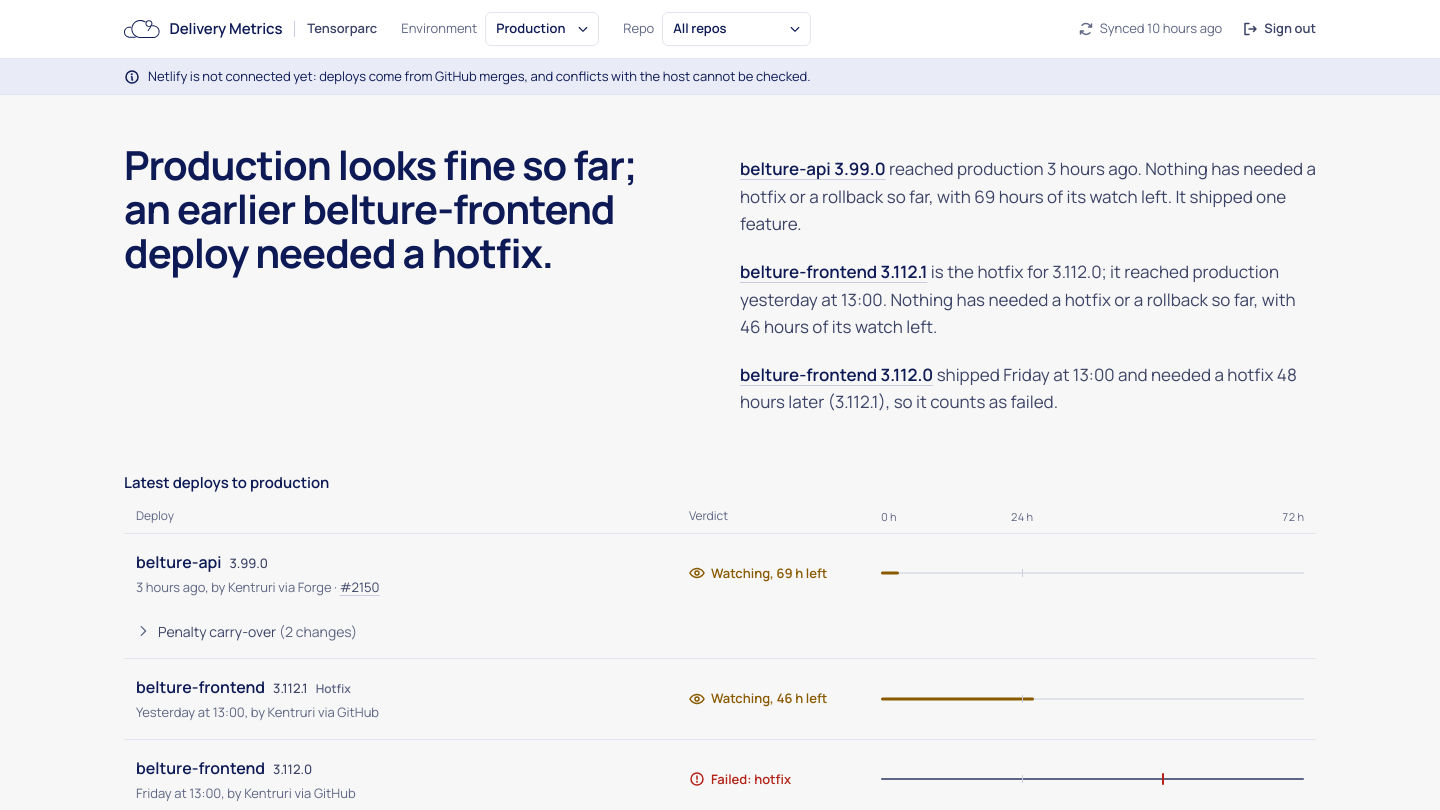
Scenario: OverviewPage › signs out
Click the button "Sign out".
click(1279, 29)  # box [1242,19,1316,38]
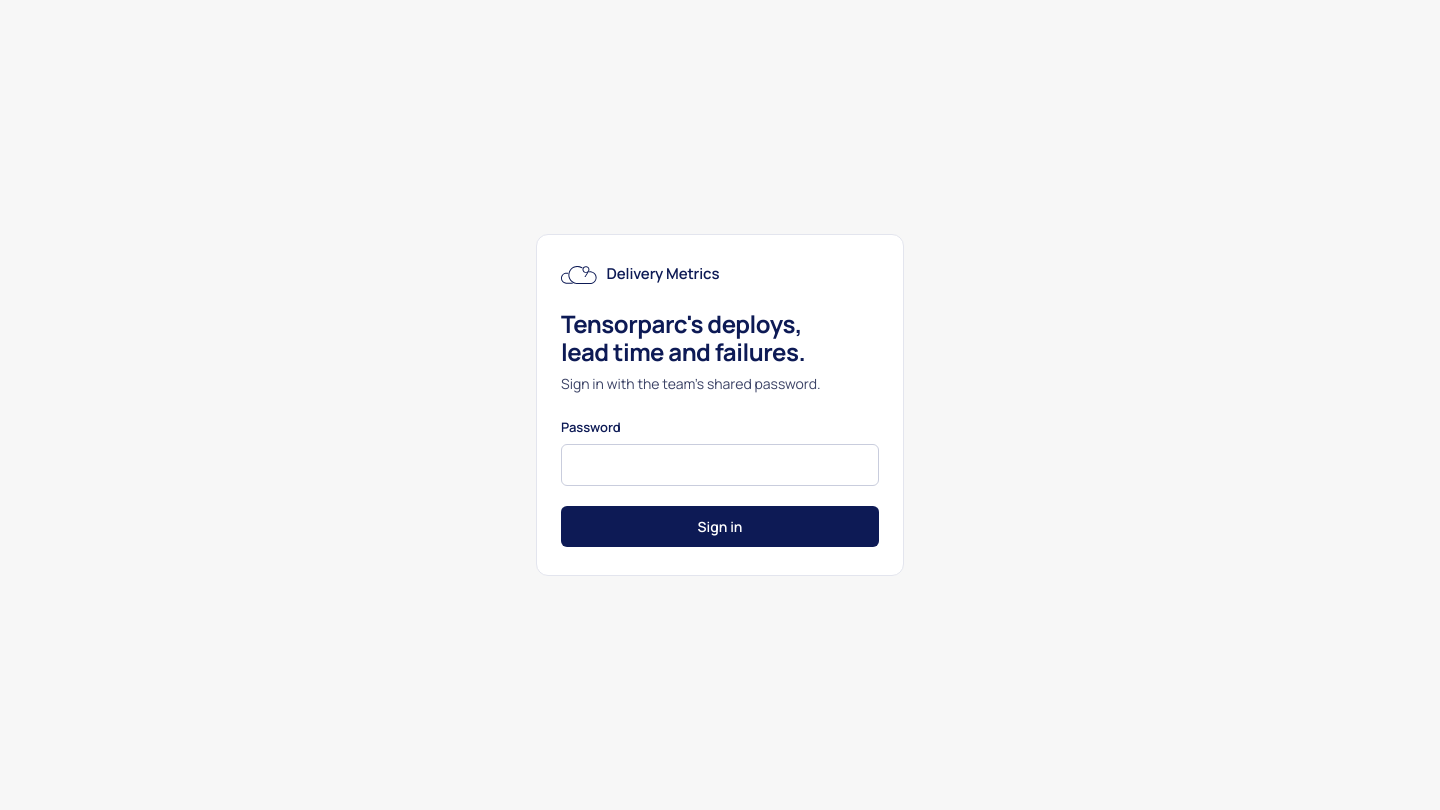
Result: the password field labelled "Password" is shown at [561,444,879,486]
